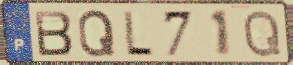1: (208, 8, 232, 59)
7: (160, 9, 196, 58)
B: (32, 9, 75, 58)
L: (122, 9, 156, 58)
Q: (242, 8, 284, 59), (77, 8, 118, 59)
